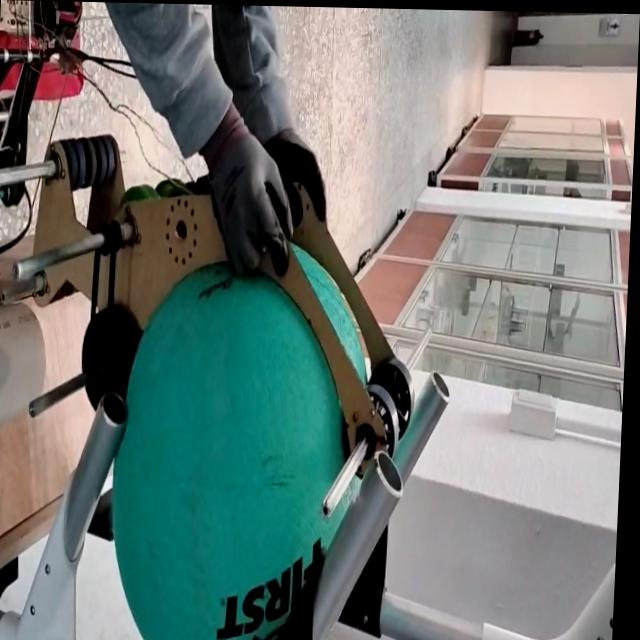ALGAE: (103, 237, 373, 640)
